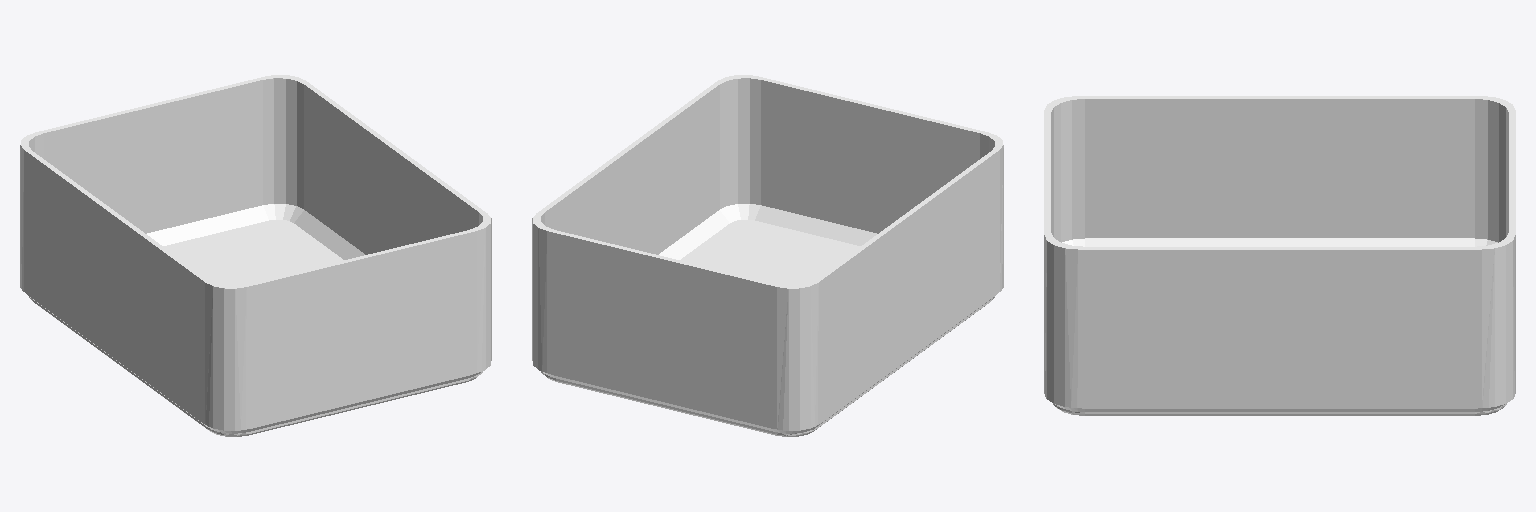
robot.urdf — box:
<?xml version="1.0" encoding="utf-8"?>
<!-- This URDF was automatically created by SolidWorks to URDF Exporter! Originally created by Stephen Brawner (brawner@gmail.com) 
     Commit Version: 1.6.0-4-g7f85cfe  Build Version: 1.6.7995.38578
     For more information, please see http://wiki.ros.org/sw_urdf_exporter -->
<robot
  name="box">
  <link
    name="base_link">
    <inertial>
      <origin
        xyz="-4.78951016403975E-17 -7.24614443825989E-19 0.0128036064819368"
        rpy="0 0 0" />
      <mass
        value="0.142440868845747" />
      <inertia
        ixx="0.000329725260961154"
        ixy="-2.42777509784314E-19"
        ixz="2.87574664829734E-20"
        iyy="0.000221512784465087"
        iyz="-8.36984009758776E-20"
        izz="0.000481035646179957" />
    </inertial>
    <visual>
      <origin
        xyz="0 0 0"
        rpy="0 0 0" />
      <geometry>
        <mesh
          filename="package://box/meshes/base_link.STL" />
      </geometry>
      <material
        name="">
        <color
          rgba="1 1 1 1" />
      </material>
    </visual>
    <collision>
      <origin
        xyz="0 0 0"
        rpy="0 0 0" />
      <geometry>
        <mesh
          filename="package://box/meshes/base_link.STL" />
      </geometry>
    </collision>
  </link>
</robot>

--- Facts derived from the render (not from the file) ---
3 views of the same robot in one strip: view 1: azimuth 30°, elevation 25°; view 2: azimuth 150°, elevation 25°; view 3: azimuth 270°, elevation 25° (orthographic).
Model box with 1 links and 0 joints (none), rooted at base_link, posed all joints at 0.
Visible links, largest first — view 1: base_link; view 2: base_link; view 3: base_link.
Boxes of the visible links, box(x1,y1,x2,y2) form: base_link: box(20, 75, 491, 436); base_link: box(532, 75, 1003, 436); base_link: box(1044, 96, 1515, 415).
Bounding box of the posed robot: 0.108 × 0.14 × 0.056 m (x, y, z).
1 mesh visuals loaded from 1 distinct referenced files (1 binary STL).
